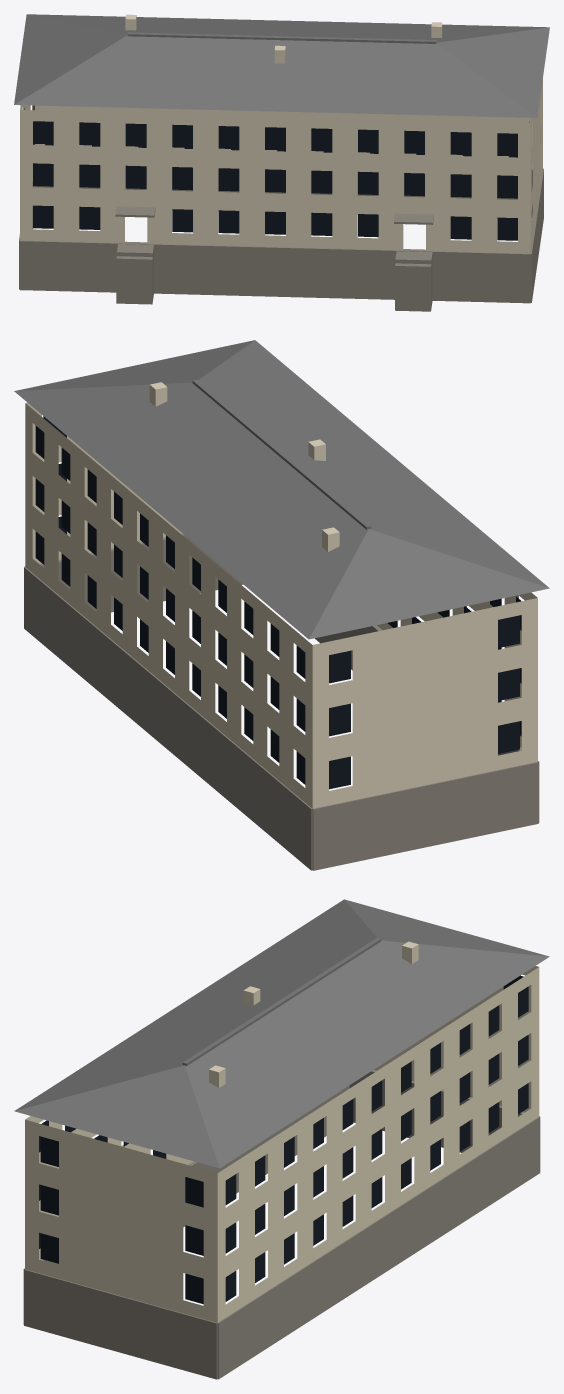
The model's file is may3.lod.glb.
3 views of the same model, one above another, from view 1: azimuth 30°, elevation 25°; view 2: azimuth 150°, elevation 25°; view 3: azimuth 270°, elevation 25° (orthographic). The views are drawn at different scales.
Visible parts, largest first — view 1: may3_wall, may3_roof, may3_stone, may3_glass; view 2: may3_roof, may3_wall, may3_stone, may3_glass; view 3: may3_wall, may3_roof, may3_stone, may3_glass.
Part boxes in pixels (x1,y1,x2,y2): may3_wall: (20, 14, 542, 253); may3_roof: (14, 14, 549, 117); may3_stone: (19, 163, 543, 311); may3_glass: (24, 105, 529, 240); may3_roof: (14, 340, 549, 639); may3_wall: (25, 382, 537, 808); may3_stone: (24, 533, 539, 870); may3_glass: (35, 416, 521, 789); may3_wall: (25, 941, 539, 1322); may3_roof: (14, 899, 549, 1168); may3_stone: (23, 1070, 540, 1379); may3_glass: (39, 975, 528, 1304).
Size of the model in its own units: 37.03 by 16.1 by 31.16.
